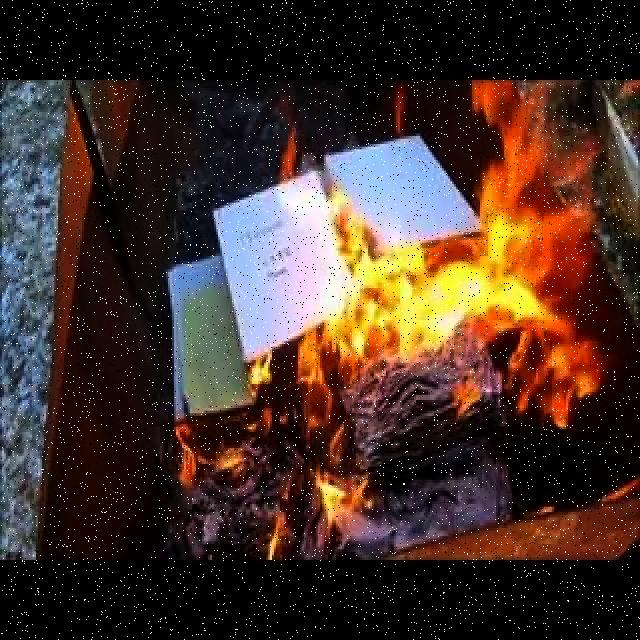fire: (329, 215, 585, 358), (473, 87, 583, 218), (506, 360, 610, 430), (252, 343, 331, 400), (313, 478, 381, 541), (170, 426, 250, 474)
